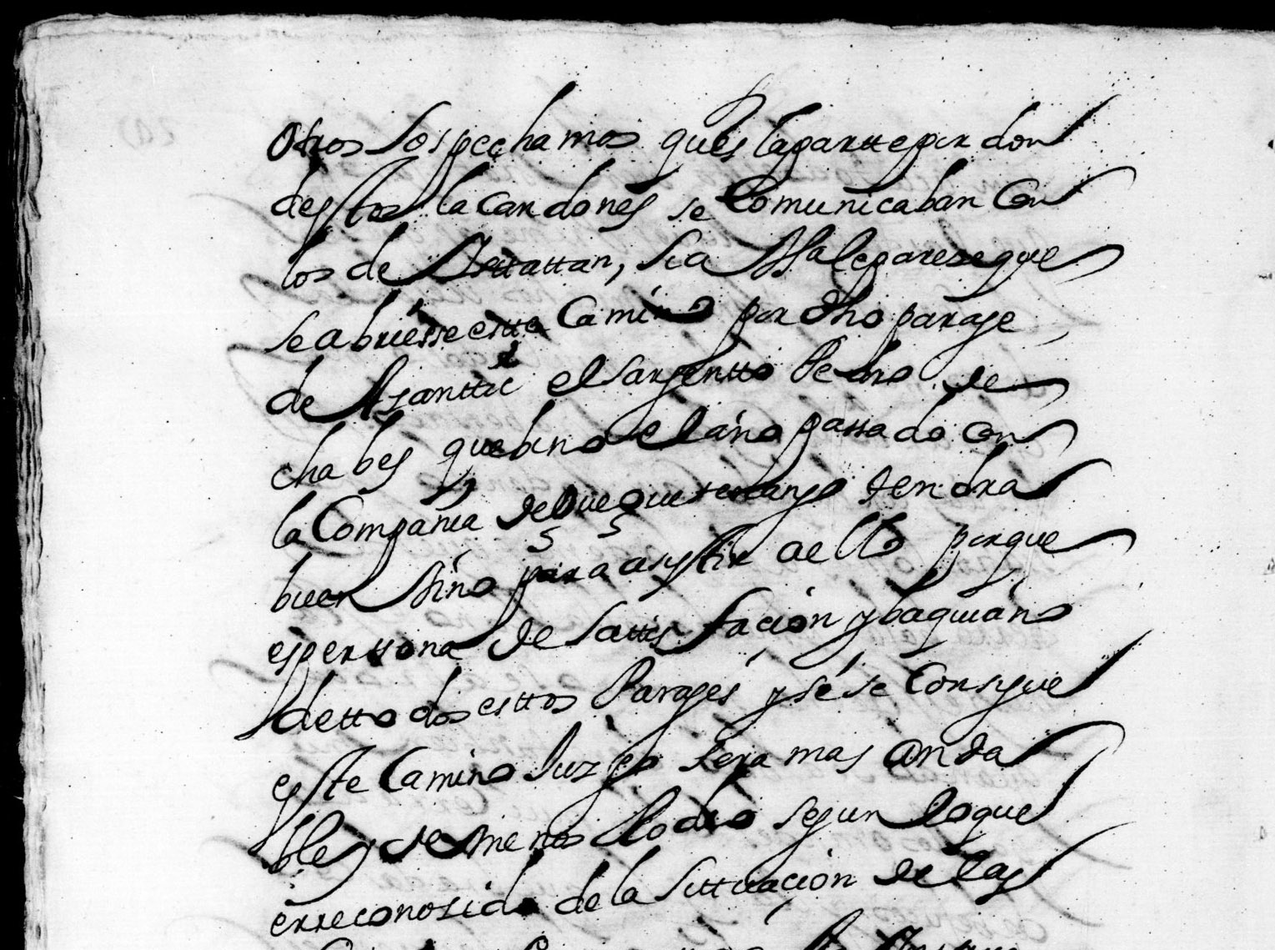lacandon: (436, 157, 658, 233)
